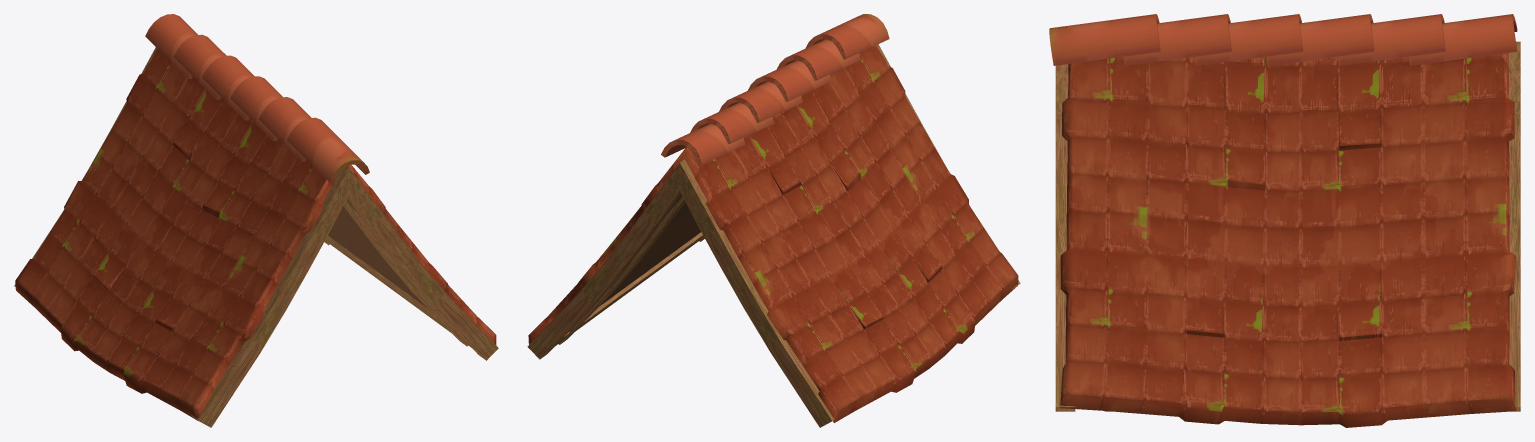
Rendered from Roof_FlatTiles_4x4.glb.
3 renders of one model, left to right at view 1: azimuth 30°, elevation 25°; view 2: azimuth 150°, elevation 25°; view 3: azimuth 270°, elevation 25°, orthographic. The views are drawn at different scales.
Parts seen in each view (by area): view 1: Roof_FlatTiles_4x4; view 2: Roof_FlatTiles_4x4; view 3: Roof_FlatTiles_4x4.
Part boxes in pixels (x1,y1,x2,y2): Roof_FlatTiles_4x4: (14,14,498,427); Roof_FlatTiles_4x4: (527,14,1020,427); Roof_FlatTiles_4x4: (1049,14,1520,427).
Bounding box in the file's own units: 5.53 × 4.09 × 5.56.
Materials: 3 (3 with a texture image).
